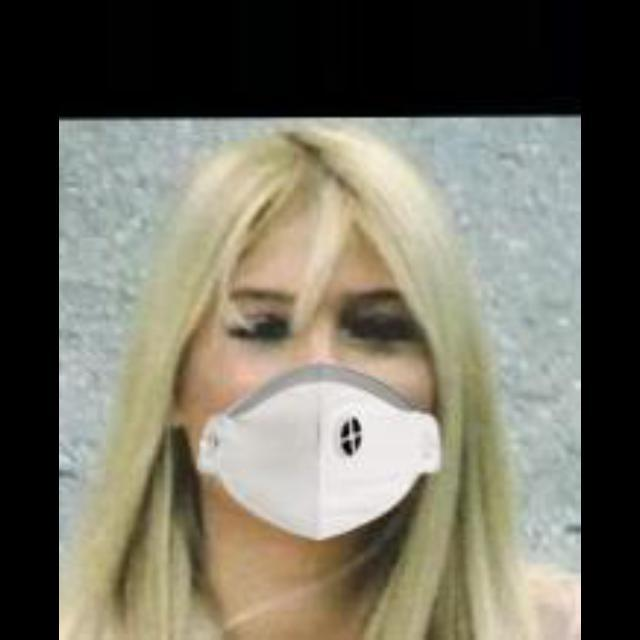suspicion: (157, 130, 515, 542)
